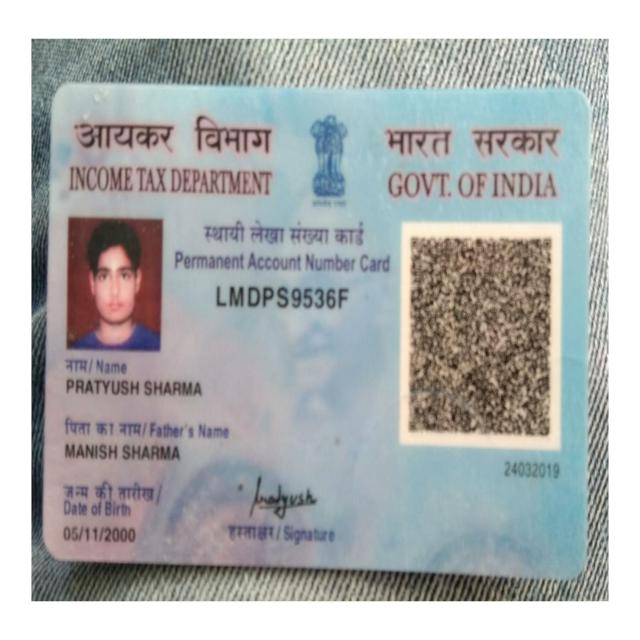pan_card: (44, 90, 588, 582)
